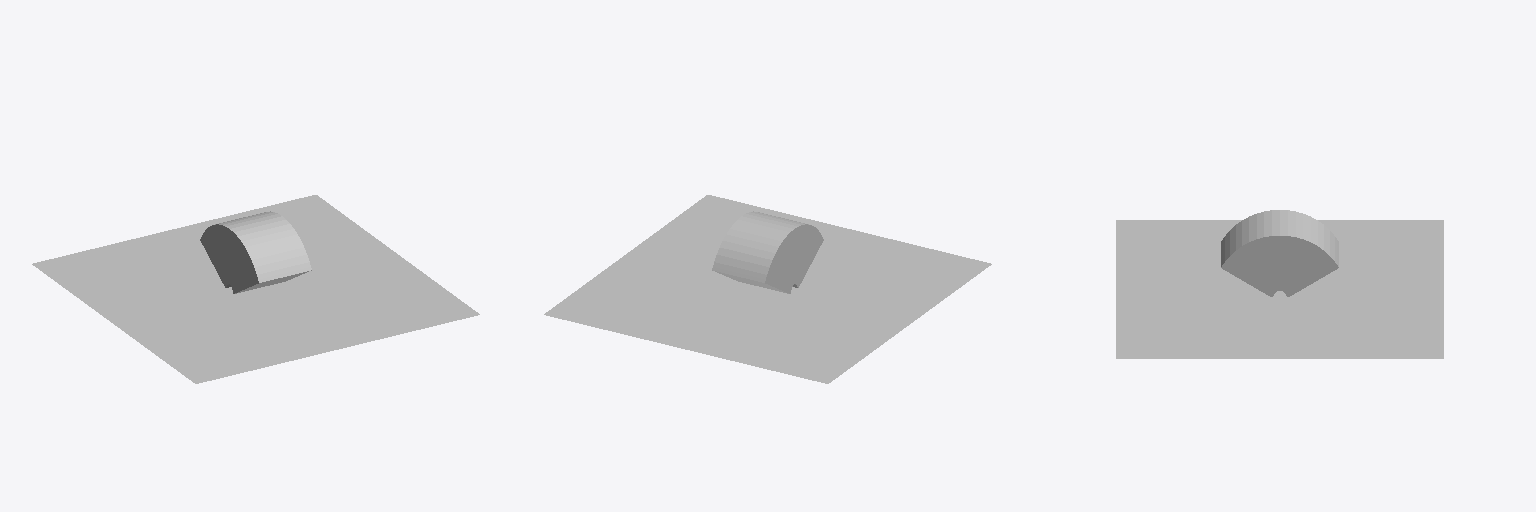
File: arc-plane.obj
The picture shows the model from 3 angles: view 1: azimuth 30°, elevation 25°; view 2: azimuth 150°, elevation 25°; view 3: azimuth 270°, elevation 25°; orthographic projection.
Visible parts, largest first — view 1: polySurface1; view 2: polySurface1; view 3: polySurface1.
Boxes of the visible parts, box(x1,y1,x2,y2) form: polySurface1: box(32, 195, 479, 383); polySurface1: box(544, 195, 991, 383); polySurface1: box(1116, 210, 1443, 358).
Size of the model in its own units: 20 by 4.48 by 20.